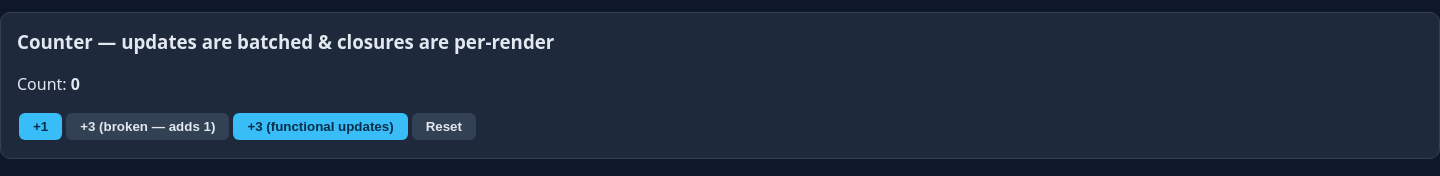
Test case: Counter (concept 03) › demonstrates the stale-closure trap: broken +3 only adds 1
Click the button "+3 (broken — adds 1)" at x=148, y=126, box [66,113,229,140]
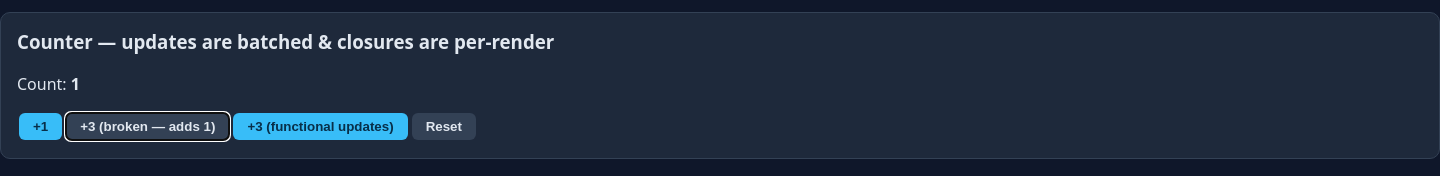
Expected: the text with test id "count" reads "1", [71,73,80,95]
